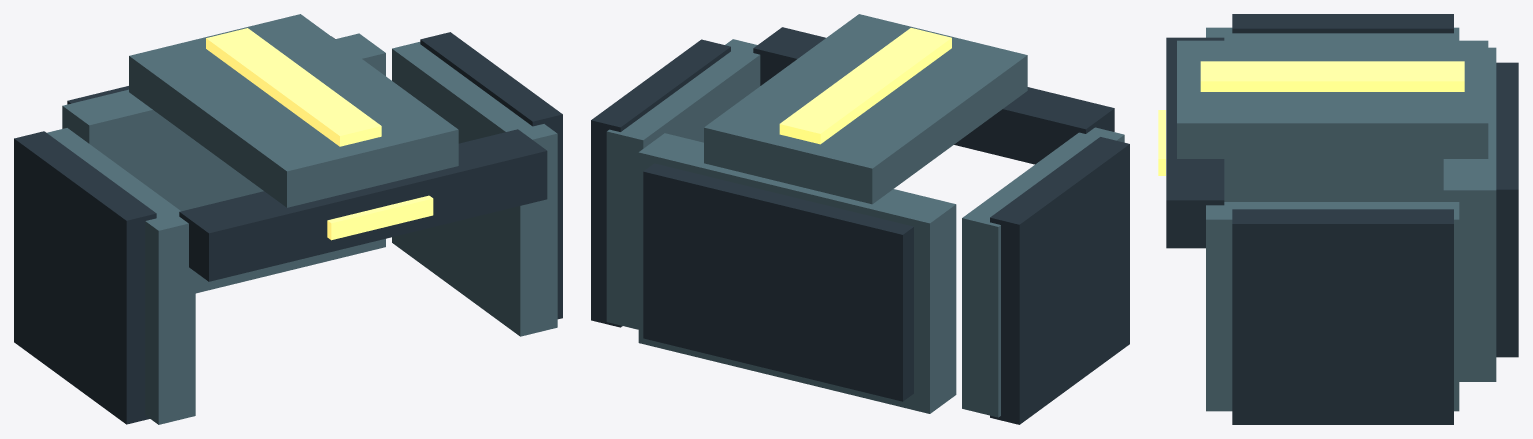
The model's file is reinforced_helmet_worn.glb.
The picture shows the model from 3 angles, left to right: view 1: azimuth 30°, elevation 25°; view 2: azimuth 150°, elevation 25°; view 3: azimuth 270°, elevation 25°; orthographic projection.
Parts seen in each view (by area): view 1: Crown between horns, Helmet reinforcement, Brow guard, Helmet side.001, Helmet back, Helmet side, Crown stripe, Helmet reinforcement.001, Brow identification; view 2: Rear reinforcement, Crown between horns, Helmet reinforcement, Helmet back, Helmet side.001, Helmet side, Brow guard, Crown stripe, Helmet reinforcement.001; view 3: Helmet reinforcement.001, Crown between horns, Helmet side, Helmet back, Helmet side.001, Crown stripe, Rear reinforcement, Brow guard, Helmet reinforcement, Brow identification.
Part boxes in pixels (bbox=[...]): Crown between horns: bbox=[129, 14, 458, 207]; Helmet reinforcement: bbox=[14, 131, 156, 424]; Brow guard: bbox=[179, 129, 547, 281]; Helmet side.001: bbox=[392, 42, 557, 336]; Helmet back: bbox=[62, 33, 385, 293]; Helmet side: bbox=[47, 128, 195, 424]; Crown stripe: bbox=[206, 28, 381, 146]; Helmet reinforcement.001: bbox=[420, 32, 562, 319]; Brow identification: bbox=[327, 195, 433, 240]; Rear reinforcement: bbox=[643, 163, 913, 401]; Crown between horns: bbox=[704, 14, 1027, 204]; Helmet reinforcement: bbox=[990, 137, 1129, 424]; Helmet back: bbox=[638, 133, 956, 413]; Helmet side.001: bbox=[606, 39, 760, 329]; Helmet side: bbox=[962, 127, 1124, 417]; Brow guard: bbox=[753, 27, 1114, 164]; Crown stripe: bbox=[779, 28, 951, 144]; Helmet reinforcement.001: bbox=[591, 39, 730, 327]; Helmet reinforcement.001: bbox=[1232, 209, 1453, 424]; Crown between horns: bbox=[1177, 40, 1488, 158]; Helmet side: bbox=[1206, 27, 1459, 201]; Helmet back: bbox=[1443, 47, 1496, 381]; Helmet side.001: bbox=[1206, 202, 1459, 411]; Crown stripe: bbox=[1200, 61, 1464, 91]; Rear reinforcement: bbox=[1496, 62, 1518, 357]; Brow guard: bbox=[1166, 37, 1224, 248]; Helmet reinforcement: bbox=[1232, 14, 1453, 33]; Brow identification: bbox=[1158, 110, 1165, 175].
Size of the model in its own units: 0.941 by 0.5195 by 0.683.
